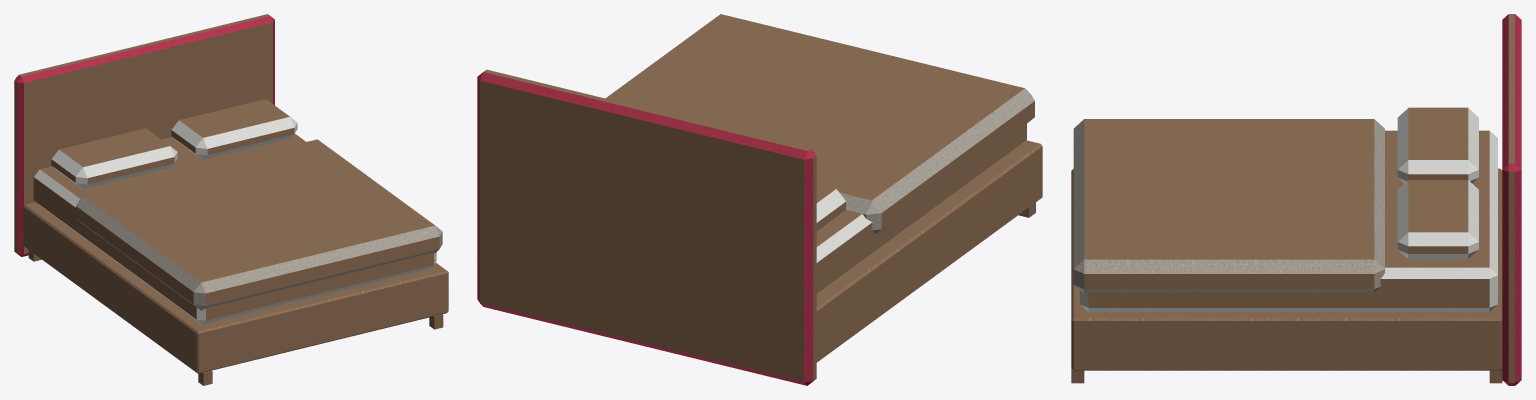
The model's file is double_bed.glb.
3 renders of one model, left to right at view 1: azimuth 30°, elevation 25°; view 2: azimuth 150°, elevation 25°; view 3: azimuth 270°, elevation 25°, orthographic. The views are drawn at different scales.
Parts seen in each view (by area): view 1: double_bed; view 2: double_bed; view 3: double_bed.
Boxes of the visible parts, x1=… form: double_bed: x1=14, y1=14, x2=448, y2=385; double_bed: x1=477, y1=14, x2=1042, y2=385; double_bed: x1=1071, y1=14, x2=1521, y2=385.
Bounding box in the file's own units: 1.72 × 1.15 × 2.11.
4 materials, 4 textured.
